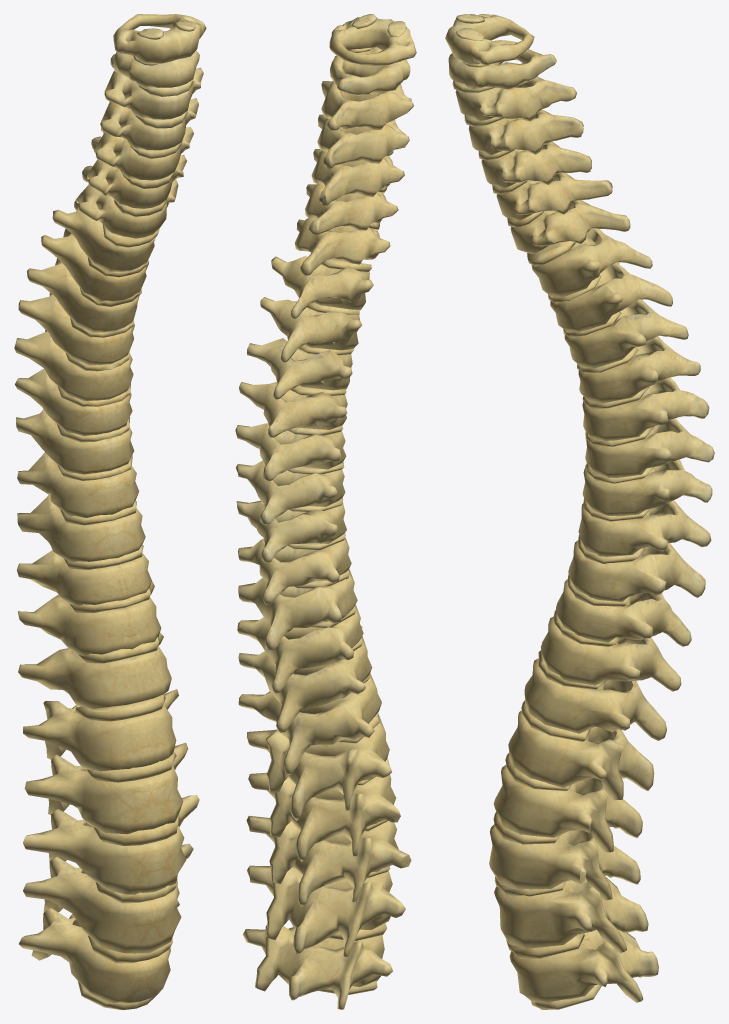
Rendered from spine.obj.
The picture shows the model from 3 angles, left to right: view 1: azimuth 30°, elevation 25°; view 2: azimuth 150°, elevation 25°; view 3: azimuth 270°, elevation 25°; orthographic projection. The views are drawn at different scales.
Visible parts, largest first — view 1: Object__3, Object__1, Object__0; view 2: Object__3, Object__1, Object__0; view 3: Object__3, Object__1, Object__0.
Boxes of the visible parts, left/top/right/bottom form: Object__3: left=14, top=200, right=171, bottom=708; Object__1: left=19, top=689, right=199, bottom=1009; Object__0: left=76, top=14, right=206, bottom=238; Object__3: left=235, top=255, right=381, bottom=774; Object__1: left=243, top=712, right=411, bottom=1009; Object__0: left=294, top=14, right=416, bottom=275; Object__3: left=524, top=228, right=714, bottom=740; Object__1: left=489, top=700, right=658, bottom=1009; Object__0: left=445, top=14, right=630, bottom=253.
Bounding box in the file's own units: 0.1123 × 0.6104 × 0.1523.
2 materials, 2 textured.
